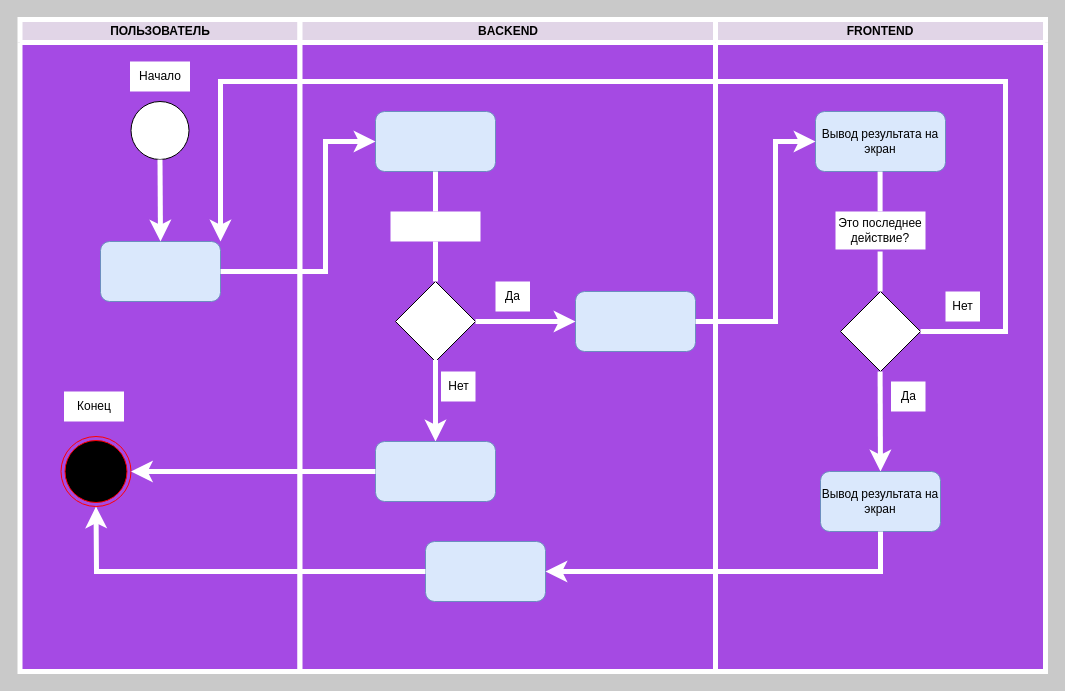
The diagram is 1065 pixels wide and 691 high, and some of its shapes have lost their labels. The centre of each missing label's shape, as x and y in pixels:
"Ввод данных в окошко калькулятора" belongs at [160,271].
"Вывод уведомления об ошибке" belongs at [435,471].
"Подсчёт результата" belongs at [635,321].
"Проверка на корректность ввода" belongs at [435,141].
"Проверка пройдена?" belongs at [435,226].
"Сохранение результата в ячейке памяти" belongs at [485,571].
